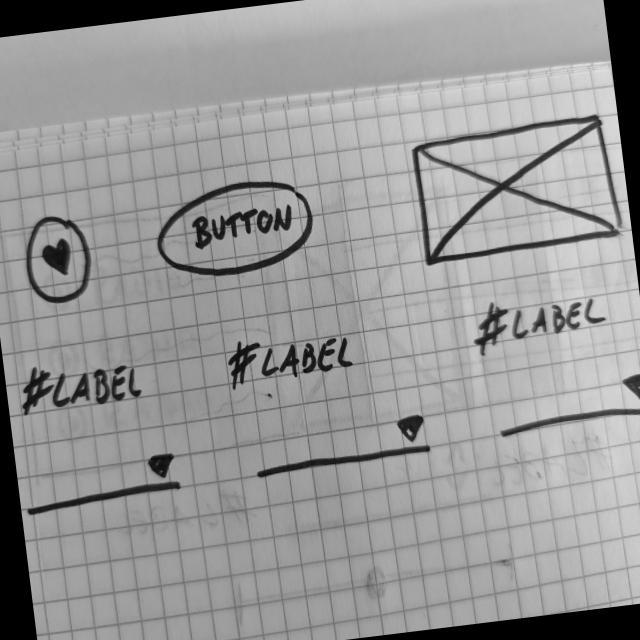button: (150, 171, 321, 287)
icon-button: (19, 210, 100, 311)
image: (406, 110, 631, 271)
label: (466, 284, 613, 357), (222, 324, 356, 393), (15, 352, 148, 419)
select: (248, 410, 436, 485), (20, 449, 189, 520), (487, 368, 640, 445)
